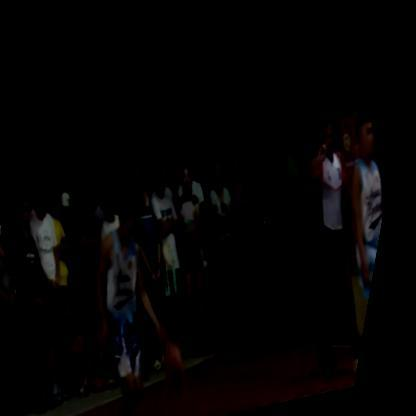basketball: (164, 330, 207, 391)
